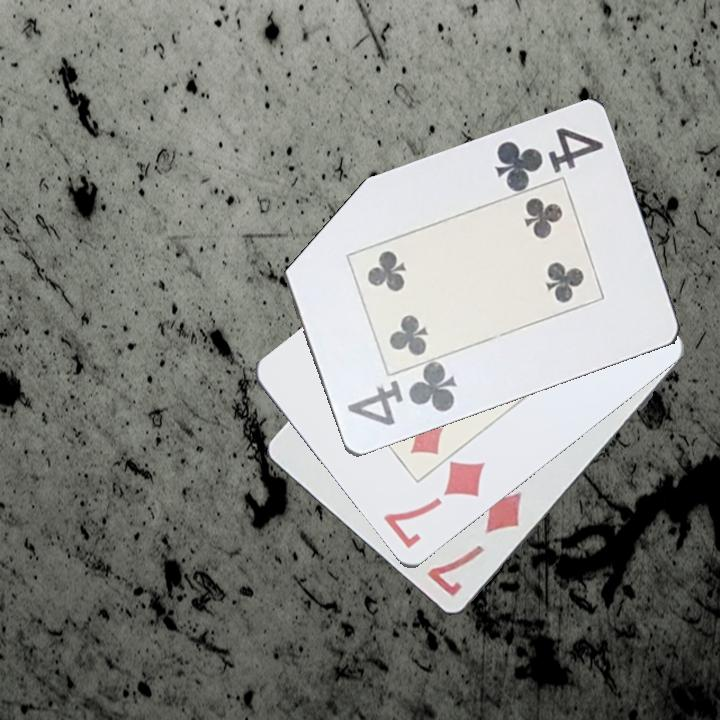4c: (490, 123, 607, 194), (343, 360, 460, 430)
7d: (424, 488, 525, 600), (379, 458, 489, 553)
